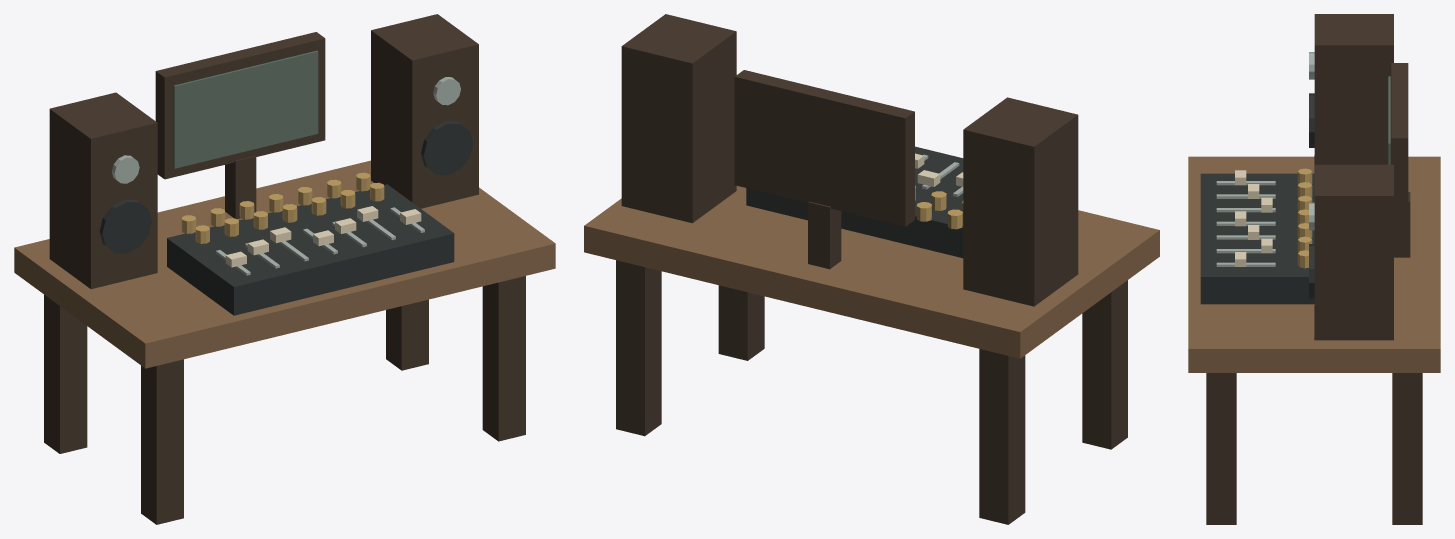
Rendered from 07_Sound_Desk.fbx.
3 views of the same model, side by side, from view 1: azimuth 30°, elevation 25°; view 2: azimuth 150°, elevation 25°; view 3: azimuth 270°, elevation 25° (orthographic). The views are drawn at different scales.
Parts seen in each view (by area): view 1: Structure.005; view 2: Structure.005; view 3: Structure.005.
Boxes of the visible parts, x1,y1,x2,y2 form: Structure.005: (14, 14, 555, 524); Structure.005: (584, 14, 1159, 524); Structure.005: (1188, 14, 1440, 524).
Bounding box in the file's own units: 240 × 196 × 133.
